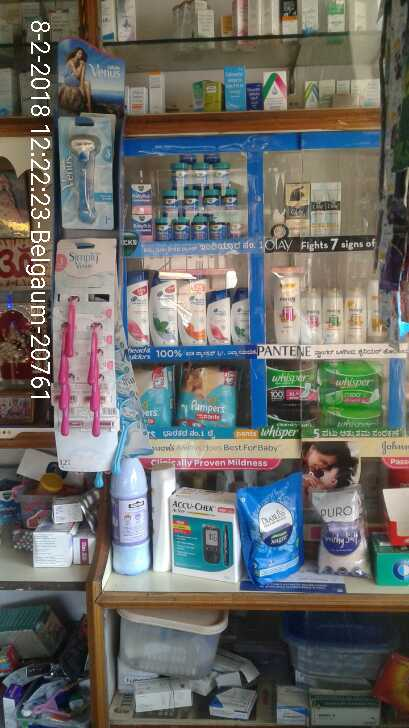beauty: (267, 277, 304, 347), (149, 273, 182, 347), (178, 270, 206, 343), (205, 289, 234, 350), (311, 183, 345, 234), (340, 287, 368, 344), (131, 270, 151, 343), (229, 290, 253, 349), (285, 185, 311, 237), (323, 290, 343, 341), (307, 290, 323, 348)
pharmacy: (178, 369, 249, 428), (323, 348, 385, 399), (266, 362, 319, 406), (139, 368, 179, 419), (126, 212, 158, 244), (130, 178, 157, 215), (156, 209, 176, 252), (181, 185, 202, 216), (191, 214, 211, 240), (221, 182, 240, 208), (204, 183, 219, 212), (213, 218, 232, 240), (164, 187, 178, 213), (175, 216, 190, 237)
